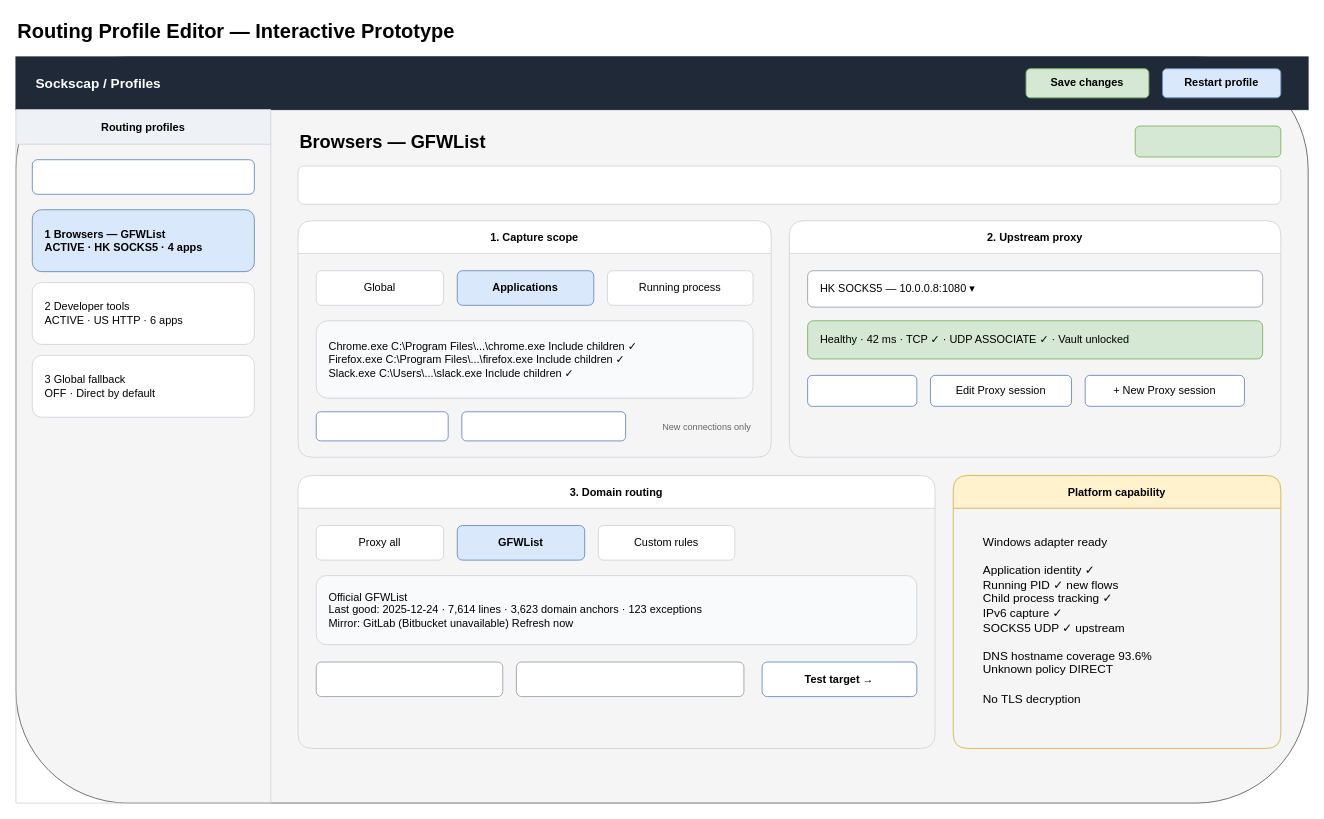
The diagram is 1324 pixels wide and 819 high, and some of its shapes have lost their labels. The centre of each missing label's shape, as x and y in pixels:
"+ Add executable" belongs at [381,426].
"+ New profile" belongs at [142,176].
"Choose running process" belongs at [543,426].
"Enabled ON" belongs at [1207,141].
"General Scope Upstream Rules Advanced" belongs at [789,184].
"Test proxy" belongs at [862,390].
"UDP / QUIC: Proxy if supported ▾" belongs at [630,679].
"Unknown domain: DIRECT ▾" belongs at [409,679].
